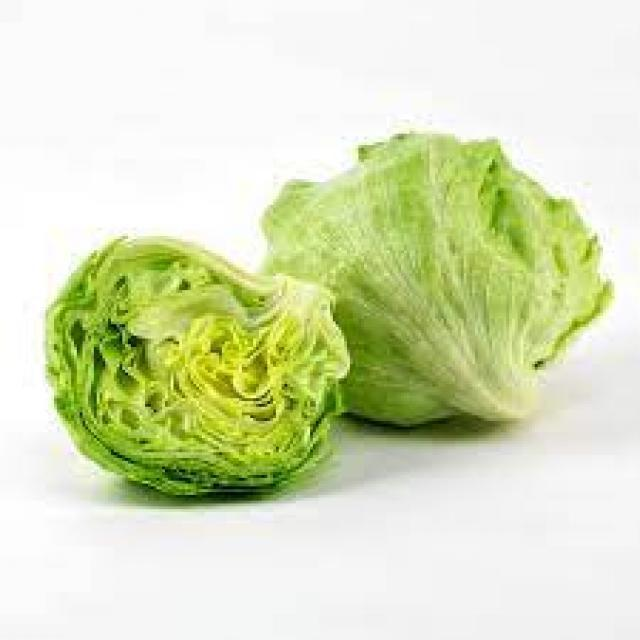Lettuce: (256, 128, 614, 423), (45, 234, 352, 502)
